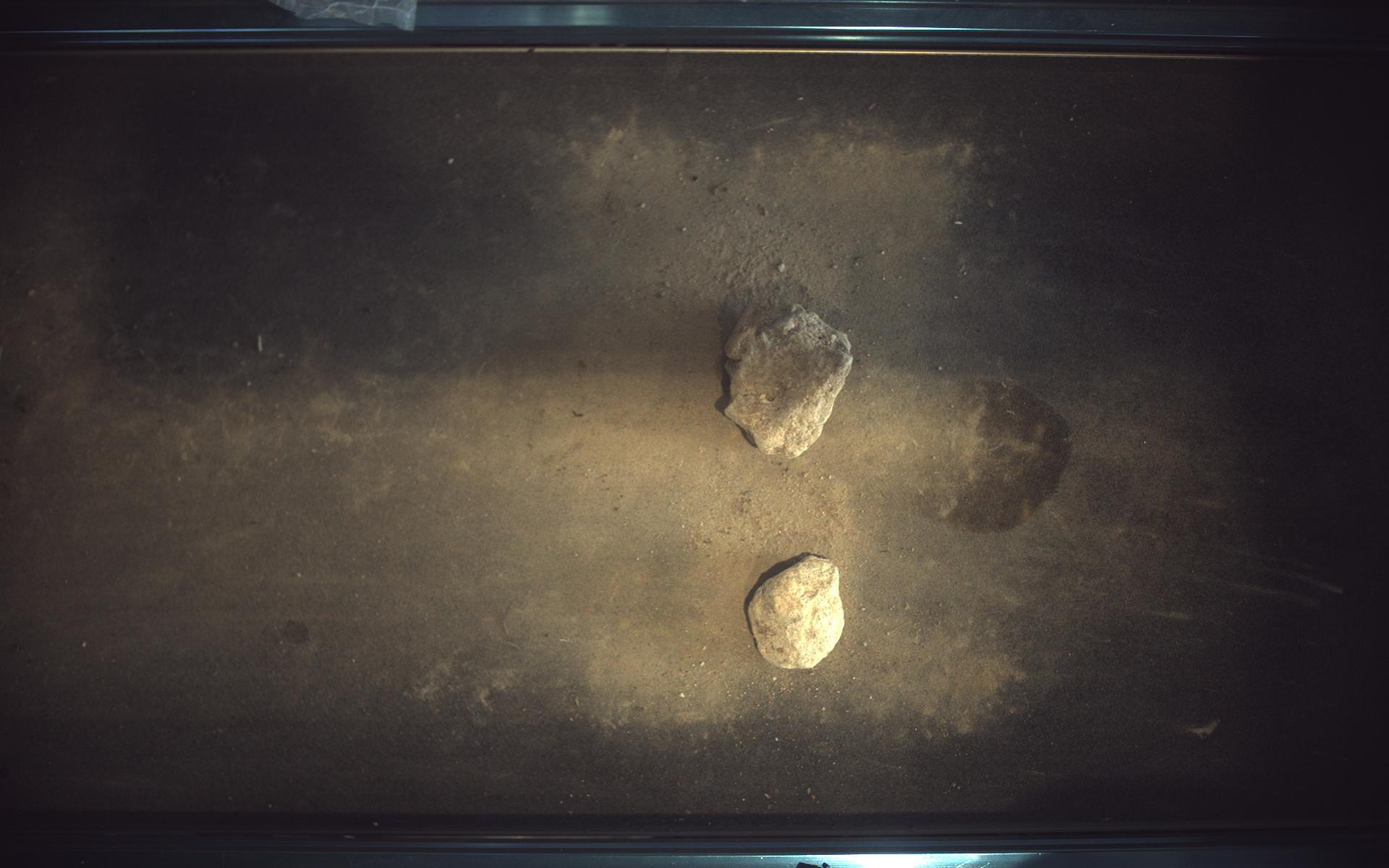stone: (726, 305, 854, 458), (749, 556, 846, 670)
